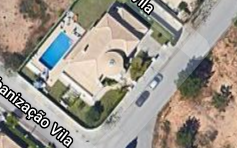pool: (45, 41, 71, 61)
